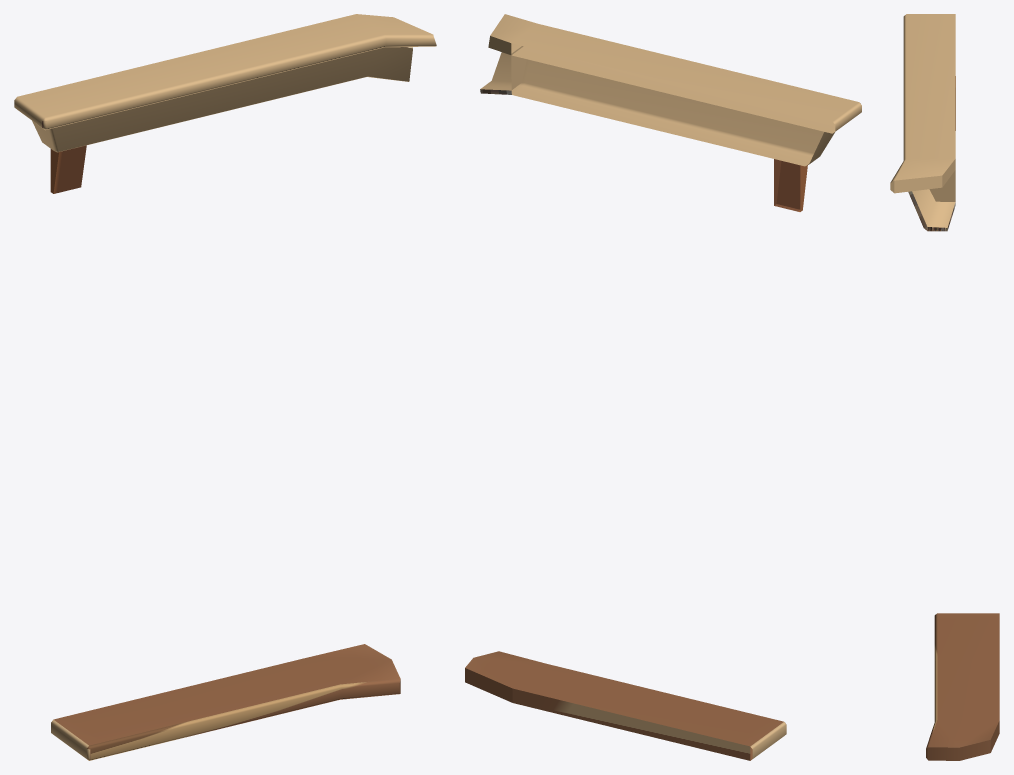
File: DBK_WinBig_Trim_B_Side.fbx
3 views of the same model, side by side, from view 1: azimuth 30°, elevation 25°; view 2: azimuth 150°, elevation 25°; view 3: azimuth 270°, elevation 25° (orthographic). The views are drawn at different scales.
Parts seen in each view (by area): view 1: DBK_WinBig_Trim_B_Side; view 2: DBK_WinBig_Trim_B_Side; view 3: DBK_WinBig_Trim_B_Side.
Part boxes in pixels (<box>): DBK_WinBig_Trim_B_Side: <box>14,14,436,760</box>; DBK_WinBig_Trim_B_Side: <box>465,14,861,760</box>; DBK_WinBig_Trim_B_Side: <box>890,14,999,760</box>.
Bounding box in the file's own units: 141 × 236 × 39.6.
